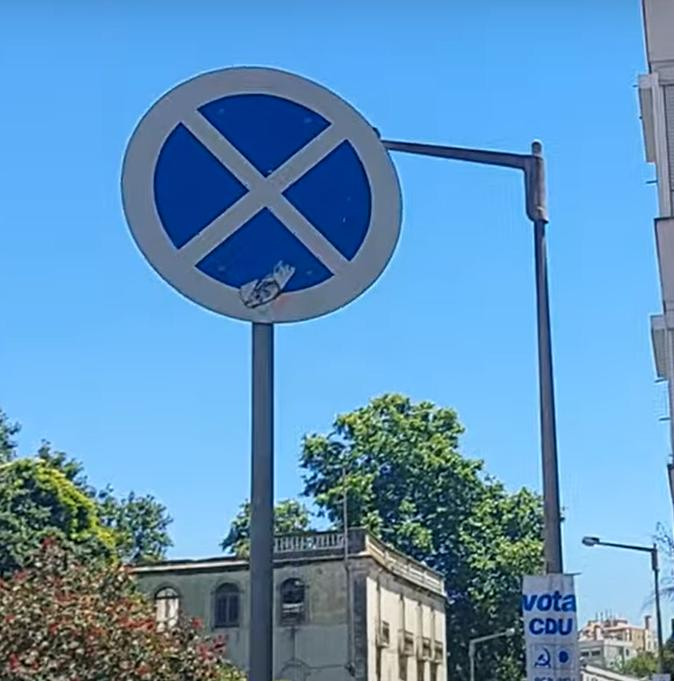paragem e estacionamneto proibidos: (117, 58, 418, 321)
